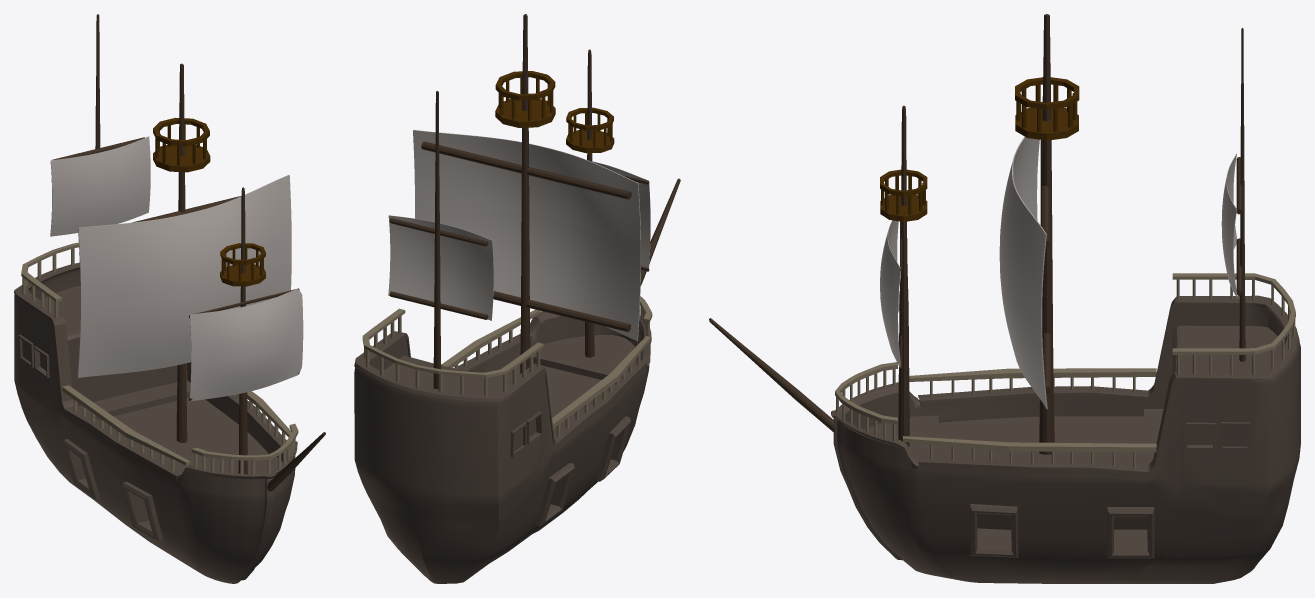
The model's file is Barco.fbx.
The picture shows the model from 3 angles, left to right: view 1: azimuth 30°, elevation 25°; view 2: azimuth 150°, elevation 25°; view 3: azimuth 270°, elevation 25°; orthographic projection. The views are drawn at different scales.
Visible parts, largest first — view 1: pCube8, pCube1, pCube9, pCylinder94, pCylinder96; view 2: pCube1, pCube8, pCylinder94, pCube9, pCylinder96; view 3: pCube1, pCube8, pCylinder94, pCube9, pCylinder96.
Part boxes in pixels (<box>): pCube8: <box>50,136,303,401</box>; pCube1: <box>14,262,297,583</box>; pCube9: <box>21,242,298,475</box>; pCylinder94: <box>52,14,325,491</box>; pCylinder96: <box>153,117,265,286</box>; pCube1: <box>354,311,651,583</box>; pCube8: <box>388,130,650,340</box>; pCylinder94: <box>389,14,680,389</box>; pCube9: <box>362,296,652,436</box>; pCylinder96: <box>495,71,614,153</box>; pCube1: <box>831,295,1300,583</box>; pCube8: <box>880,136,1237,409</box>; pCylinder94: <box>709,14,1245,454</box>; pCube9: <box>835,273,1295,467</box>; pCylinder96: <box>880,77,1079,221</box>.
Bounding box in the file's own units: 4.05 × 8.88 × 8.36.
